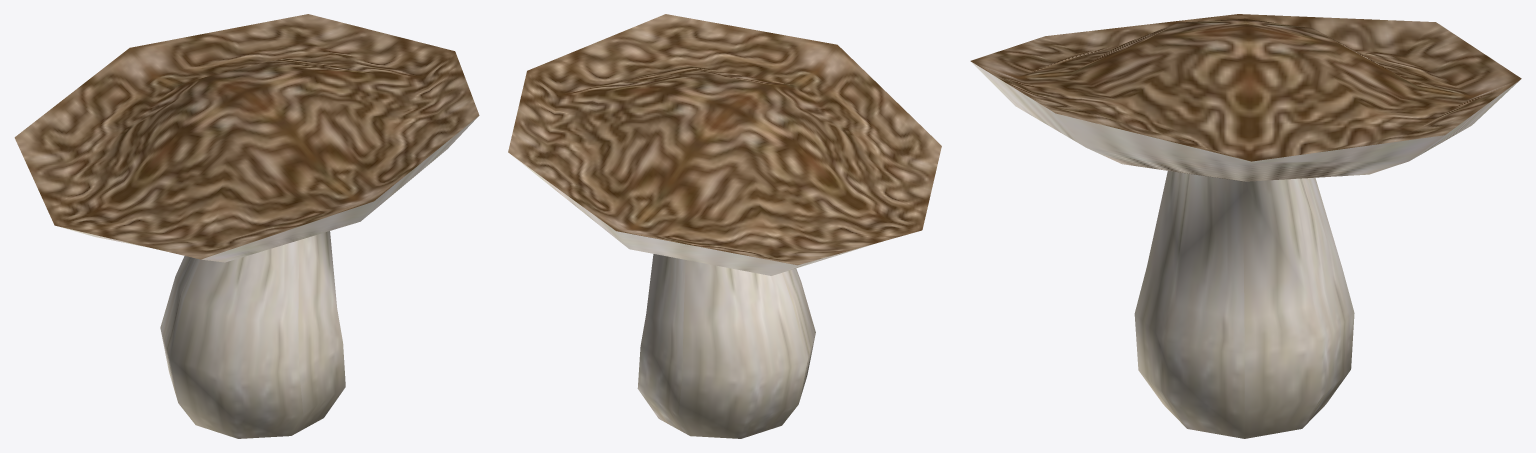
The model's file is pir_m_prp_cav_mushroom_3.fbx.
3 renders of one model, left to right at view 1: azimuth 30°, elevation 25°; view 2: azimuth 150°, elevation 25°; view 3: azimuth 270°, elevation 25°, orthographic. The views are drawn at different scales.
Parts seen in each view (by area): view 1: lod_high; view 2: lod_high; view 3: lod_high.
Boxes of the visible parts, box(x1,y1,x2,y2) form: lod_high: box(14, 14, 479, 438); lod_high: box(508, 14, 941, 438); lod_high: box(970, 14, 1521, 438).
Bounding box in the file's own units: 411 × 312 × 416.
Materials: 1 (1 with a texture image).
